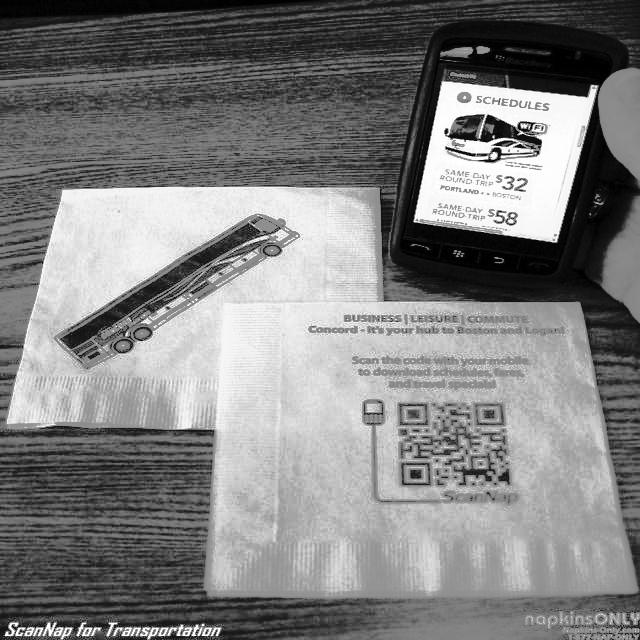qr_code: (398, 403, 511, 486)
